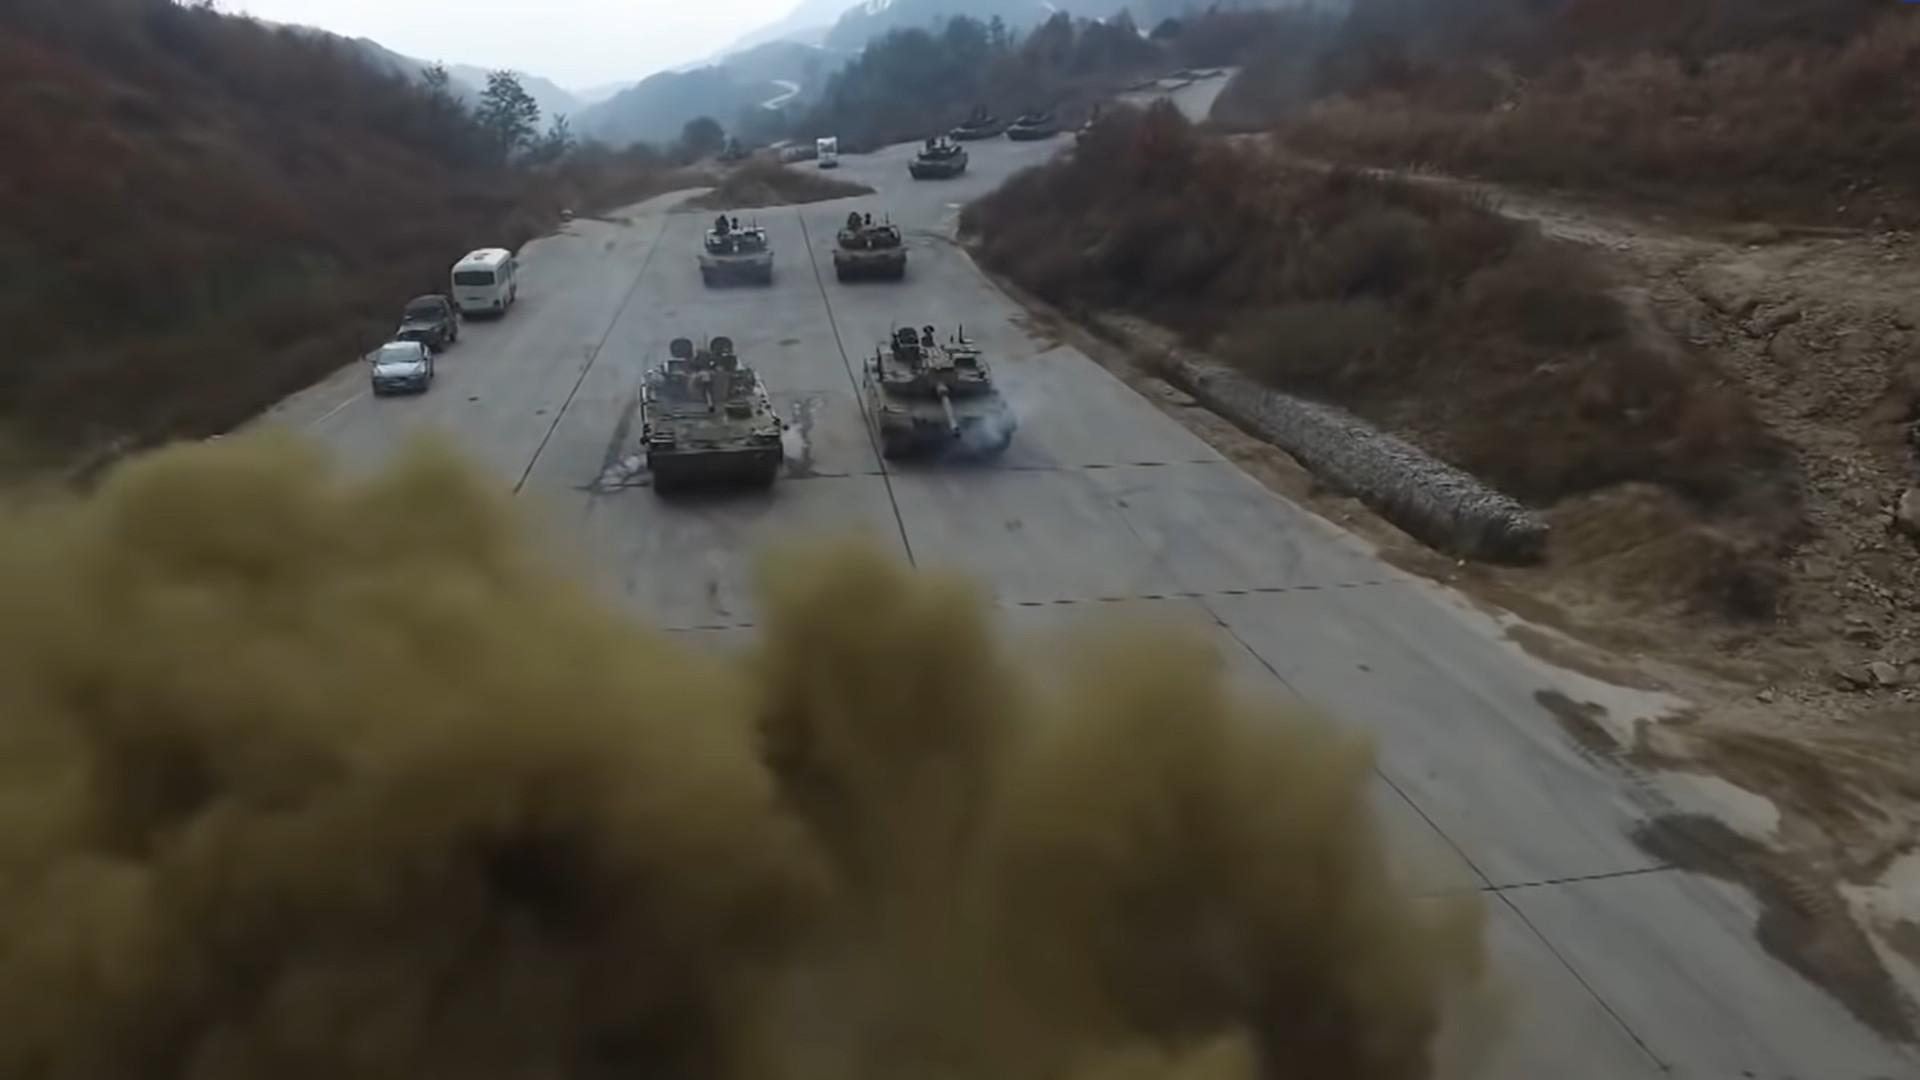tank: (637, 336, 782, 494), (858, 322, 1017, 464), (695, 214, 774, 287), (832, 212, 909, 281)
